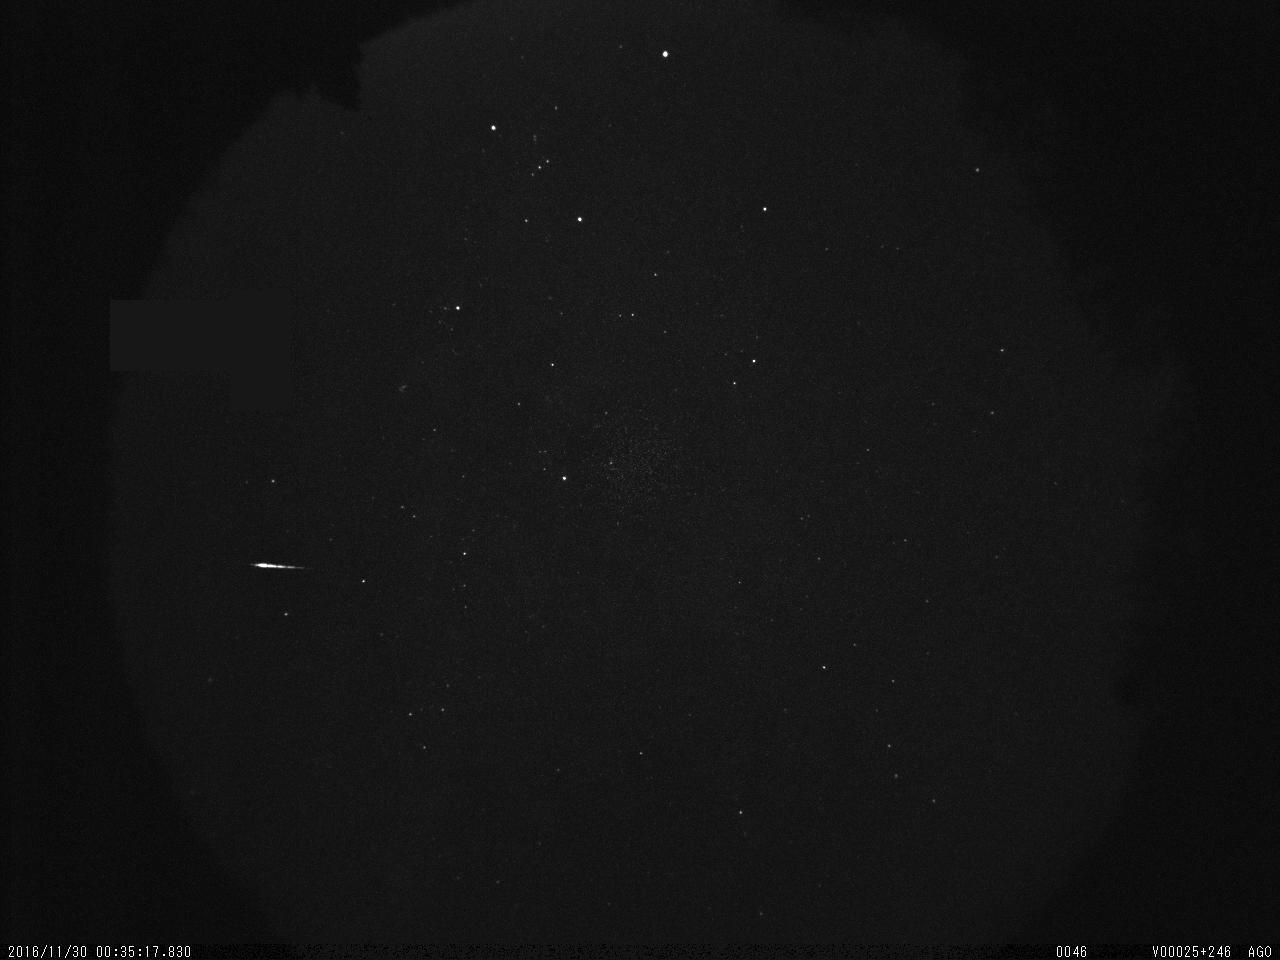meteor: (245, 550, 312, 583)
